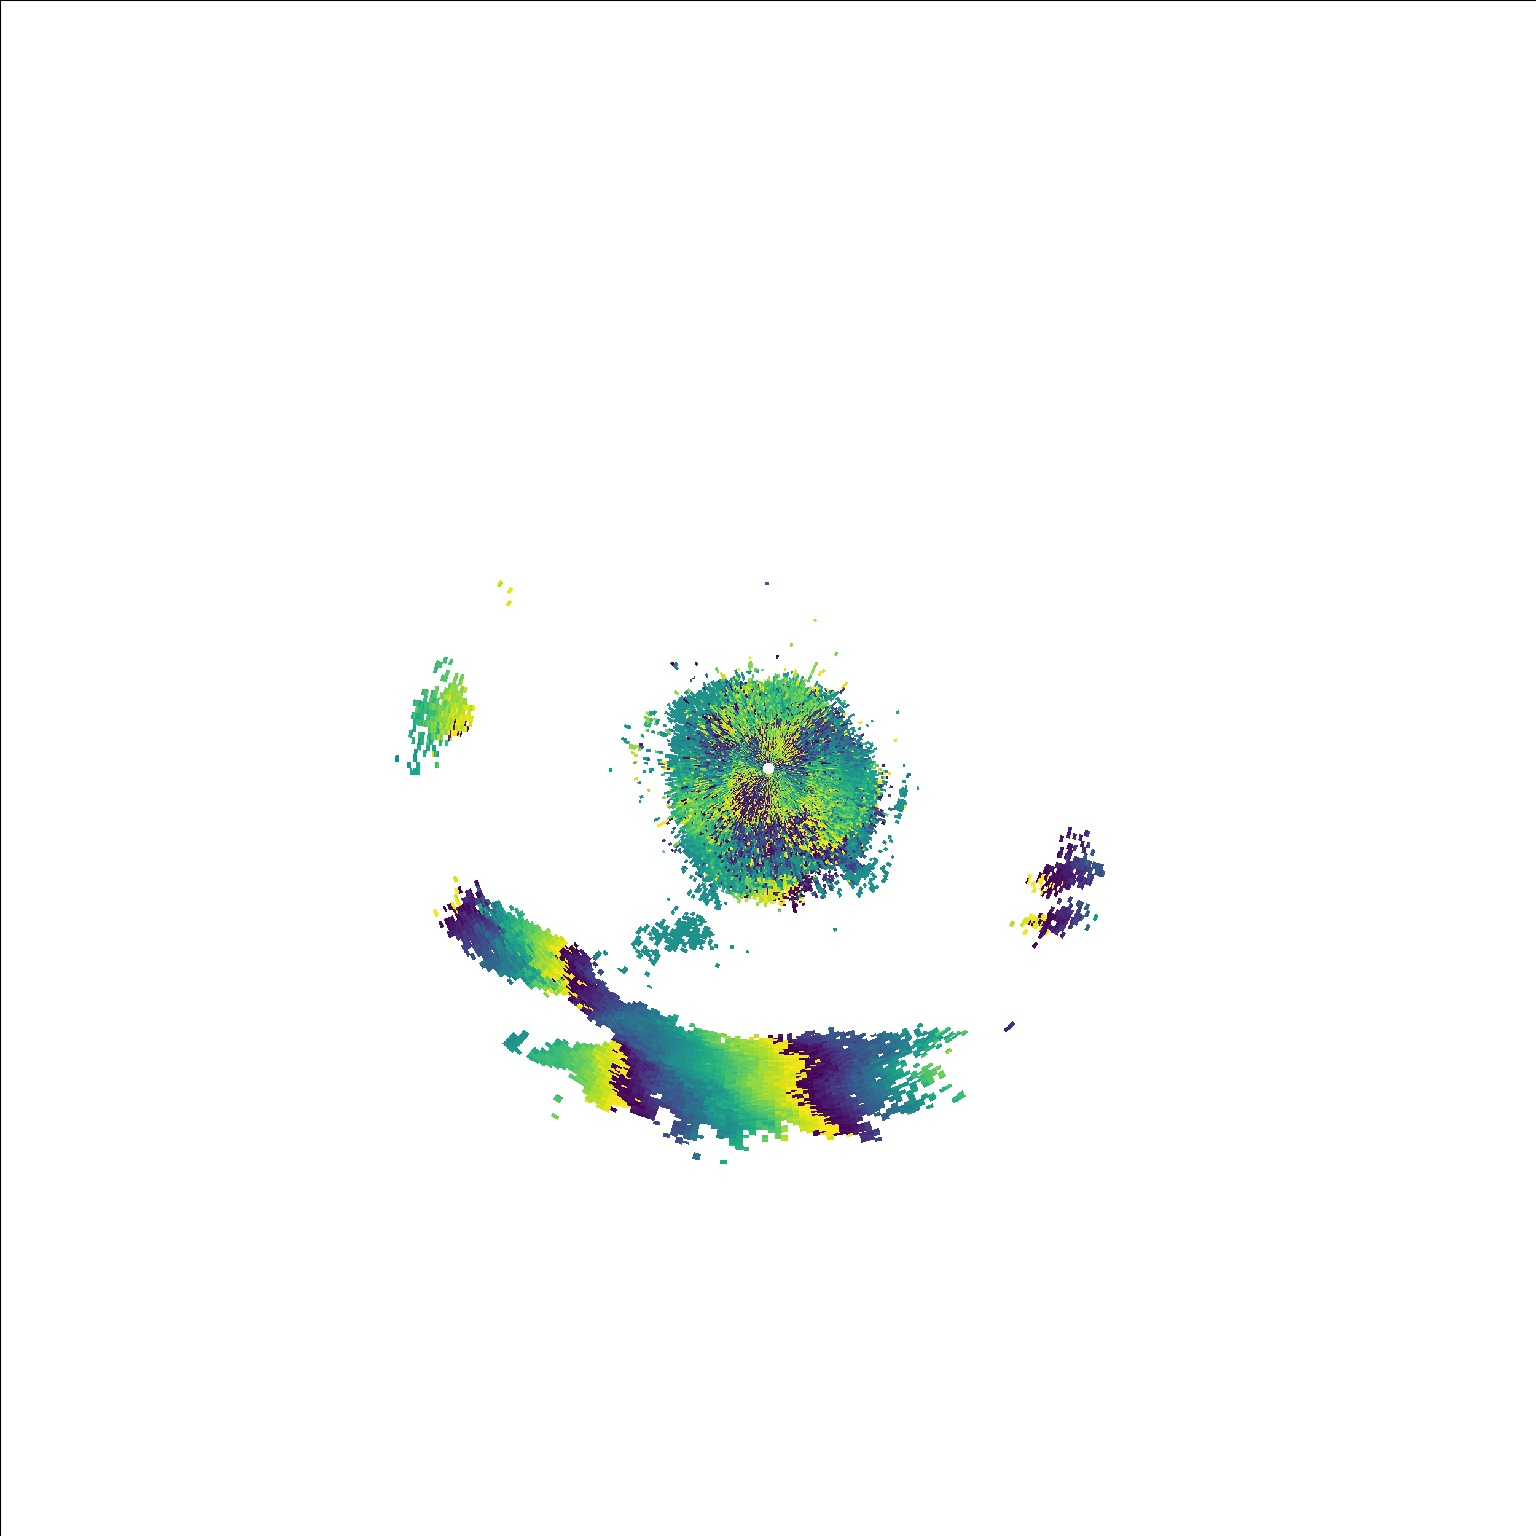fall: (378, 651, 482, 788)
